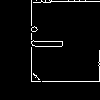J: (26, 25, 73, 50)
